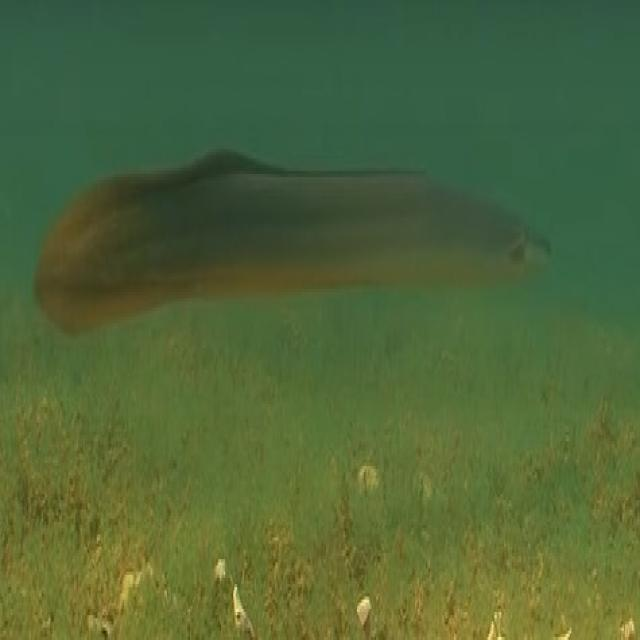Freshwater-Eel: (18, 95, 563, 376)
